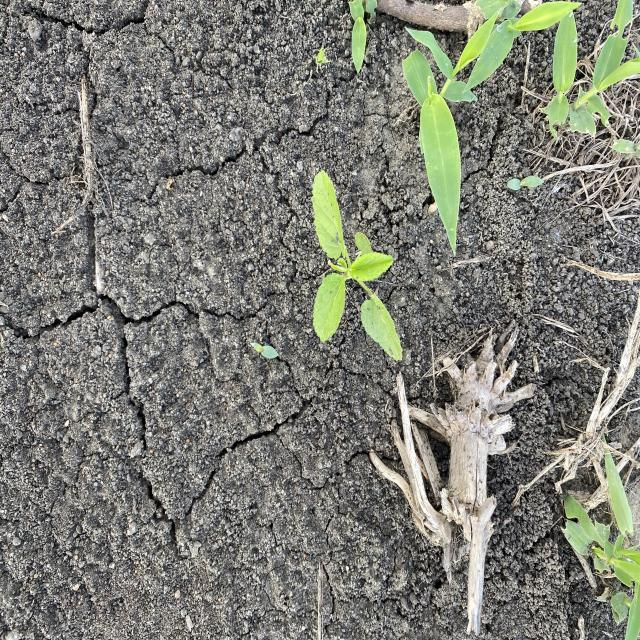PricklySida: (310, 167, 404, 364)
